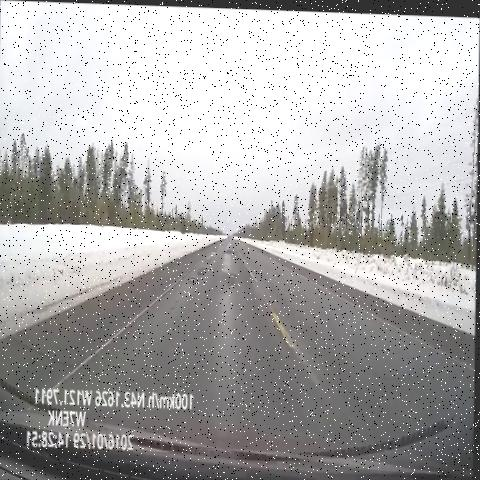pothole: (187, 270, 203, 289), (206, 248, 219, 268), (224, 273, 237, 292), (227, 263, 241, 277), (224, 243, 239, 256), (199, 261, 209, 279), (218, 236, 229, 249)
